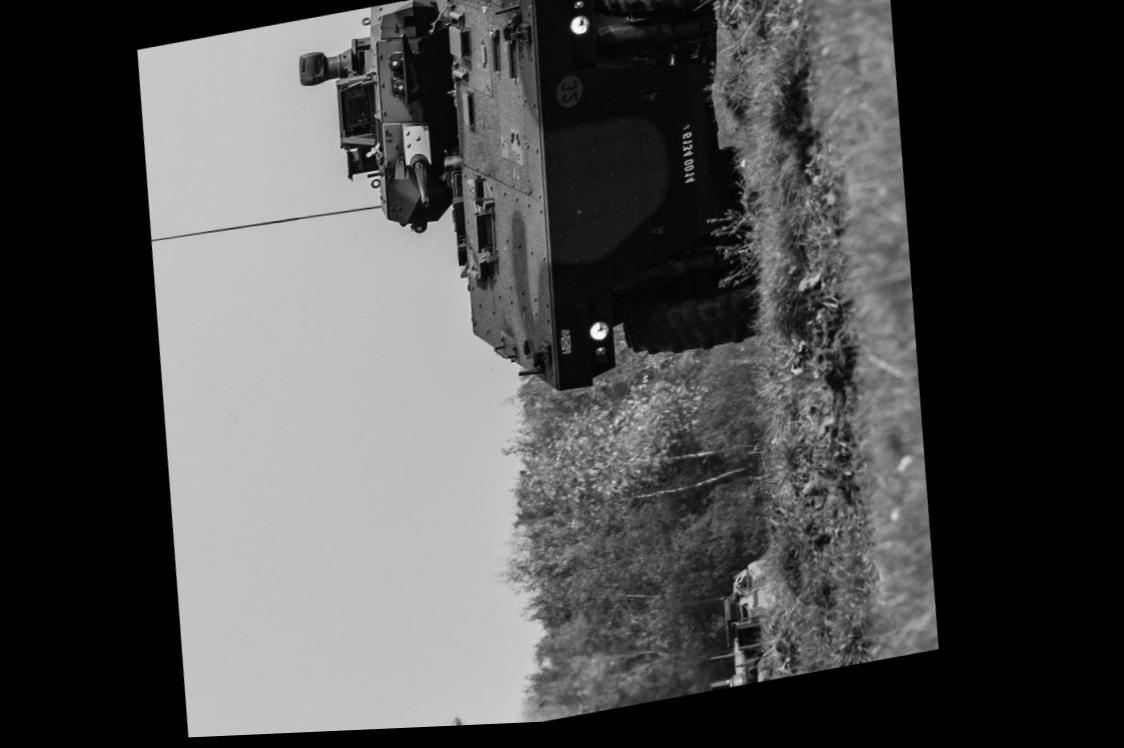tank: (263, 0, 795, 441)
